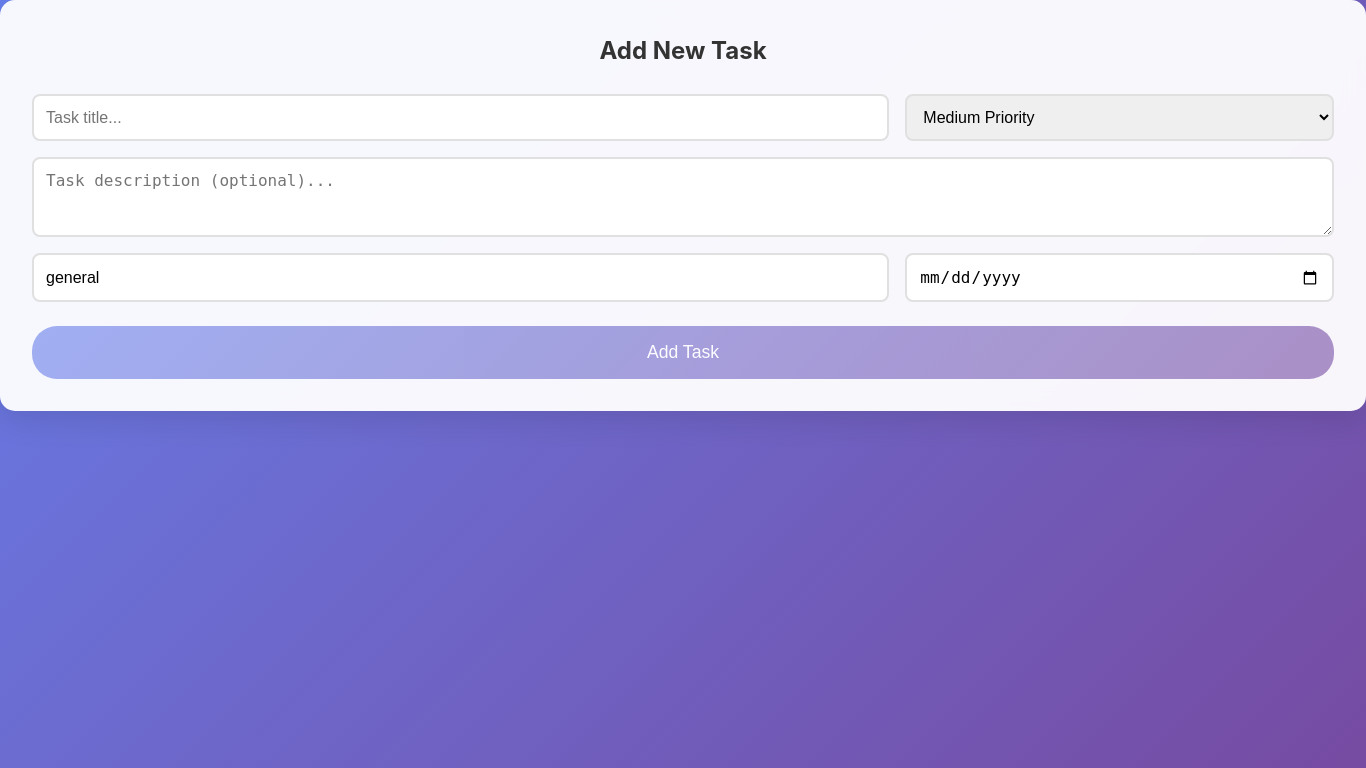
Scenario: TaskForm Component › should enable submit button when title has content
The image size is (1366, 768).
// Type in the title
Step 1. Type "Test Task Title" into the field with placeholder "Task title..." → (461, 118), box [32, 94, 889, 141]
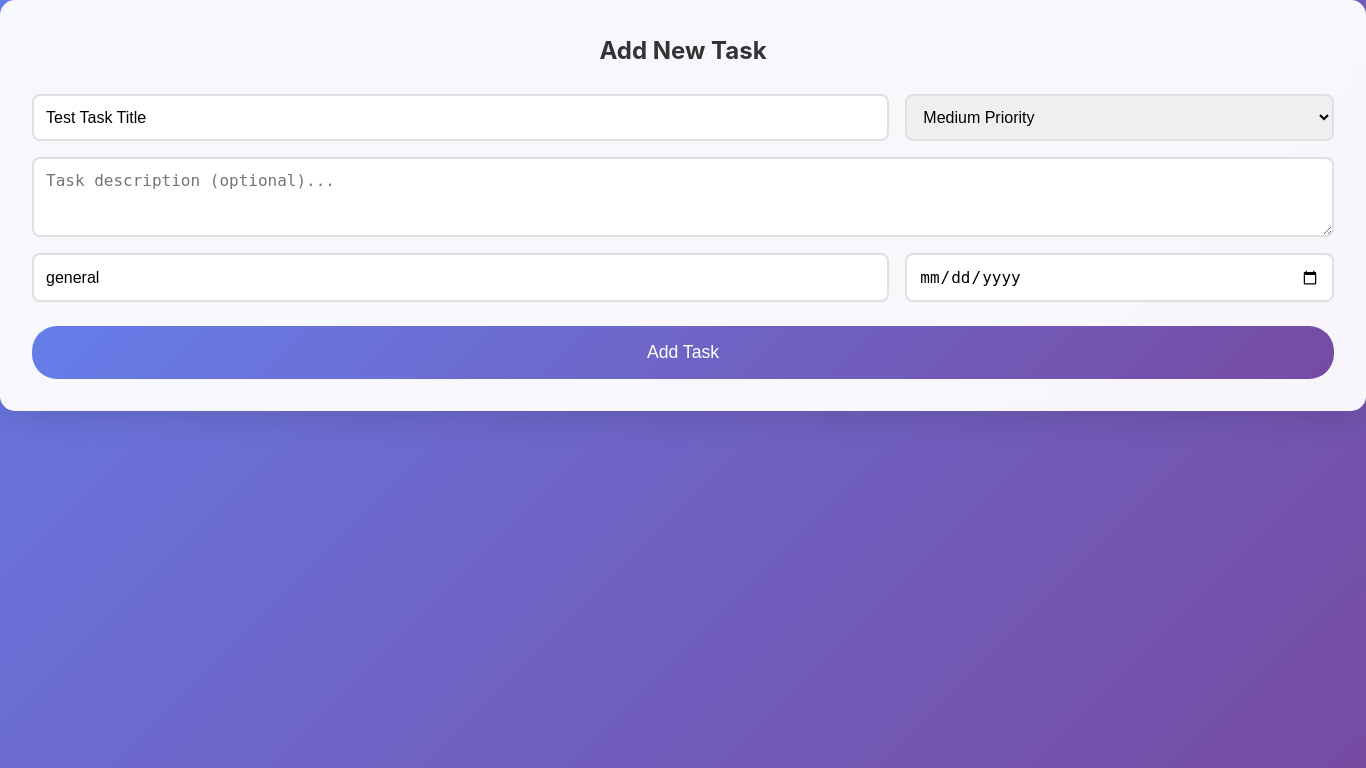
Now the button "Add Task" is enabled, box [32, 326, 1334, 379]
